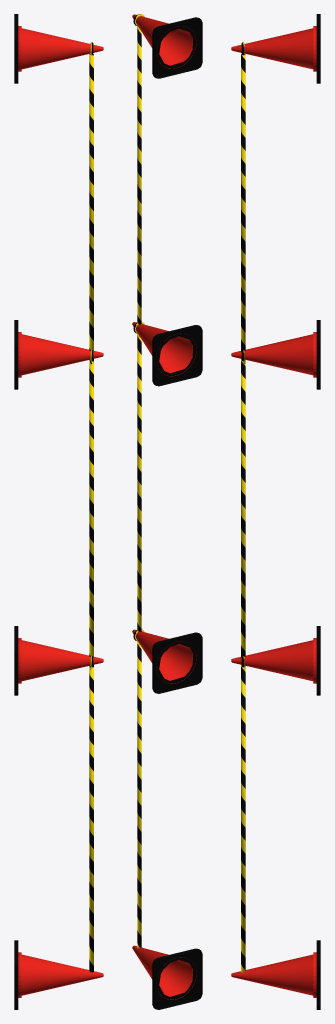
File: cone-array.glb
3 views of the same model, side by side, from view 1: azimuth 90°, elevation 25°; view 2: azimuth 210°, elevation 25°; view 3: azimuth 270°, elevation 25° (orthographic).
Parts seen in each view (by area): view 1: cone; view 2: cone; view 3: cone.
Boxes of the visible parts, box(x1,y1,x2,y2) form: cone: box(14, 14, 103, 1009); cone: box(132, 14, 202, 1009); cone: box(231, 14, 320, 1009).
Size of the model in its own units: 0.4485 by 8.64 by 0.7165.
Materials: 5 (1 with a texture image).
